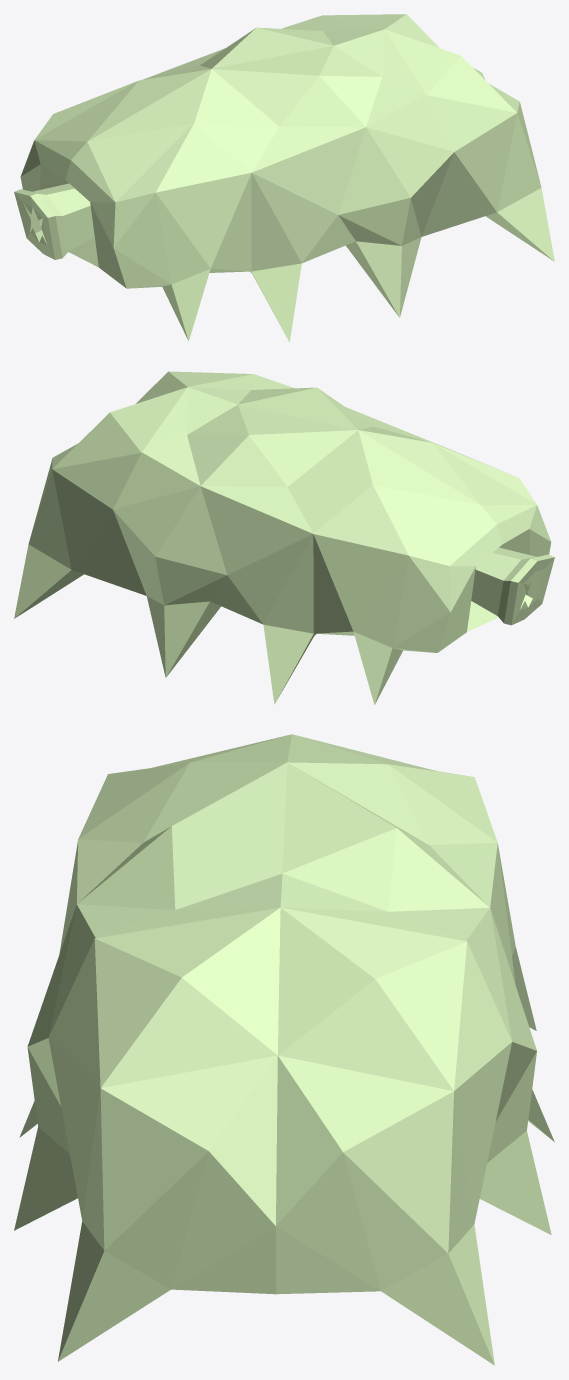
The model's file is Tardigrade2.glb.
The picture shows the model from 3 angles, top to bottom: view 1: azimuth 30°, elevation 25°; view 2: azimuth 150°, elevation 25°; view 3: azimuth 270°, elevation 25°; orthographic projection. The views are drawn at different scales.
Parts seen in each view (by area): view 1: Plane; view 2: Plane; view 3: Plane.
Part boxes in pixels (box(x1,y1,x2,y2)): Plane: box(14, 14, 554, 341); Plane: box(14, 371, 554, 704); Plane: box(14, 734, 554, 1365).
Bounding box in the file's own units: 5.52 × 2.45 × 3.19.
